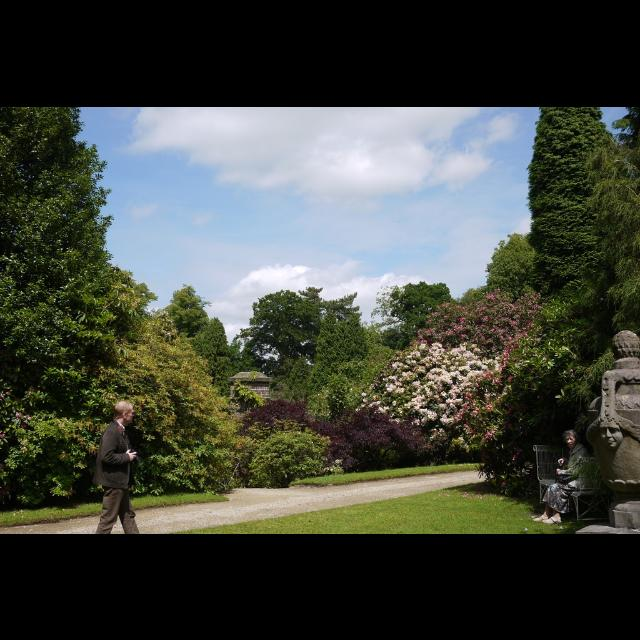Flower: (380, 343, 506, 429), (418, 294, 536, 348), (414, 406, 430, 414)
